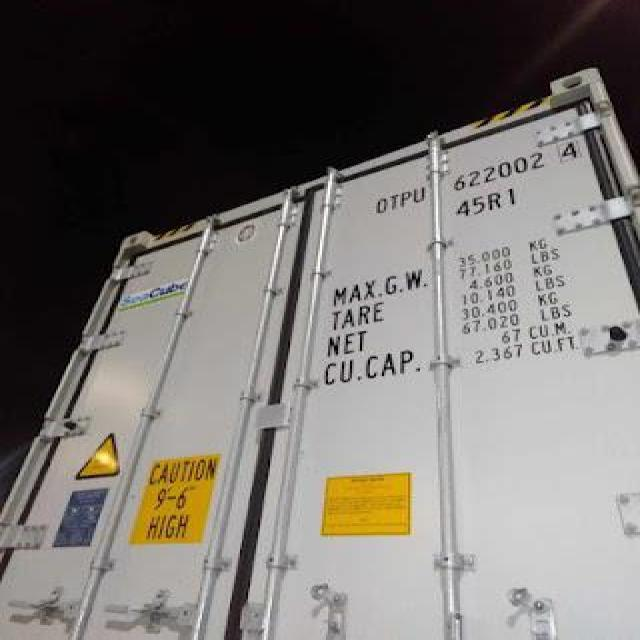ISO: (455, 186, 519, 218)
container_number: (373, 136, 584, 212)
